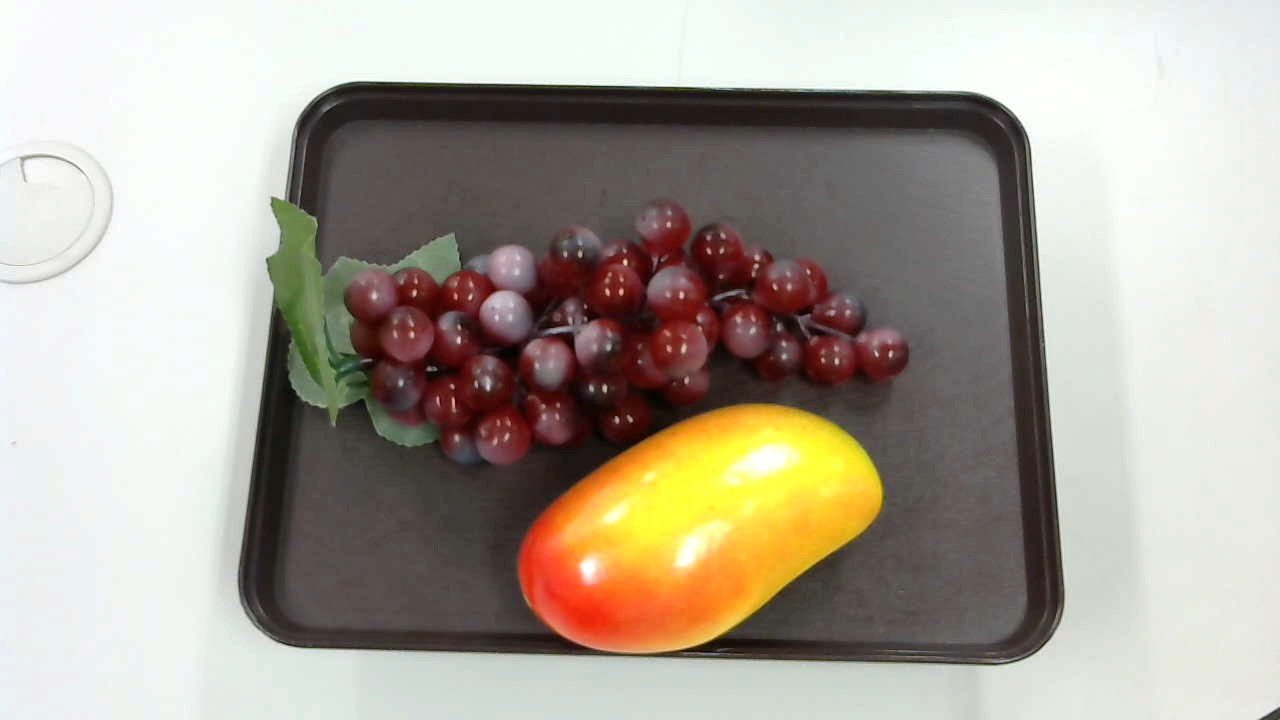grape: (256, 190, 920, 463)
red mango: (512, 403, 885, 652)
